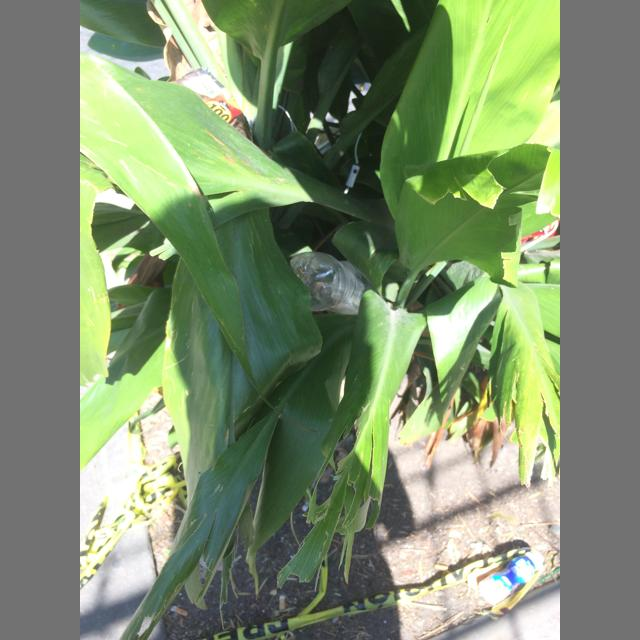litter: (168, 69, 252, 142), (290, 252, 377, 314), (479, 550, 545, 605), (170, 606, 187, 616), (279, 595, 285, 610)
